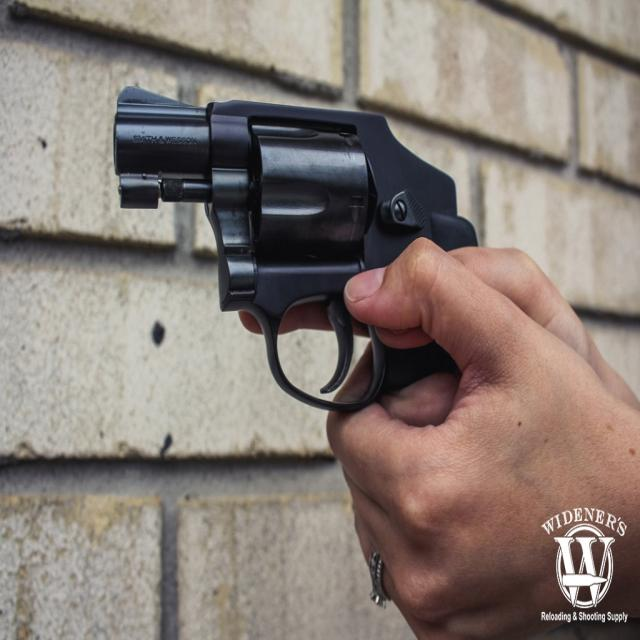HandGun: (114, 87, 481, 413)
